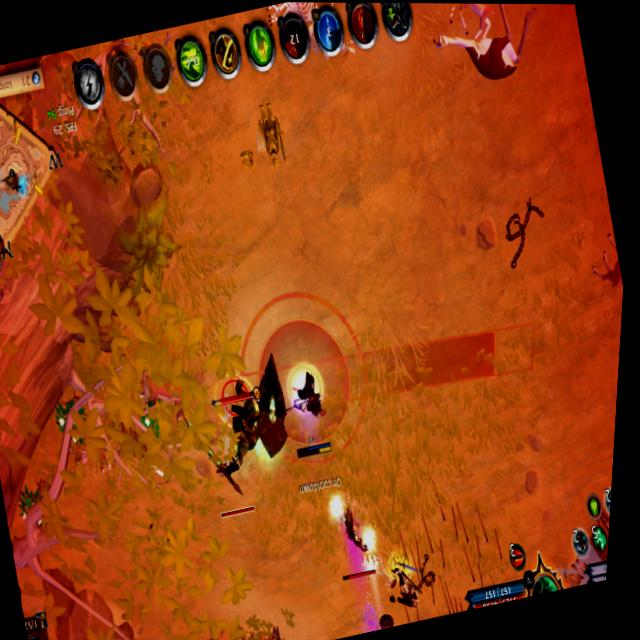hide: (49, 396, 92, 449), (13, 483, 52, 537), (262, 619, 290, 640)
mob: (416, 3, 547, 95), (131, 364, 195, 427)
ore: (188, 376, 294, 523), (323, 492, 387, 586), (380, 551, 441, 626), (580, 217, 627, 299)
red: (273, 359, 347, 465)
silver: (222, 308, 545, 442), (211, 280, 383, 463)
